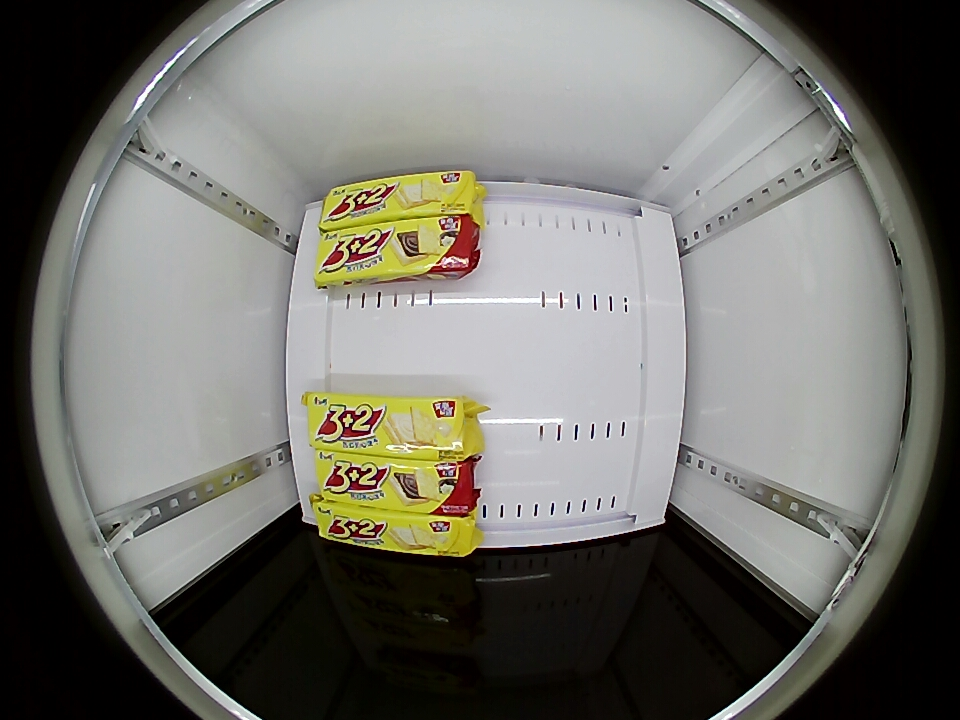3+2-2: (307, 396, 478, 457), (318, 171, 479, 228), (312, 502, 479, 556)
3jia2: (314, 218, 475, 284), (313, 455, 474, 510)
